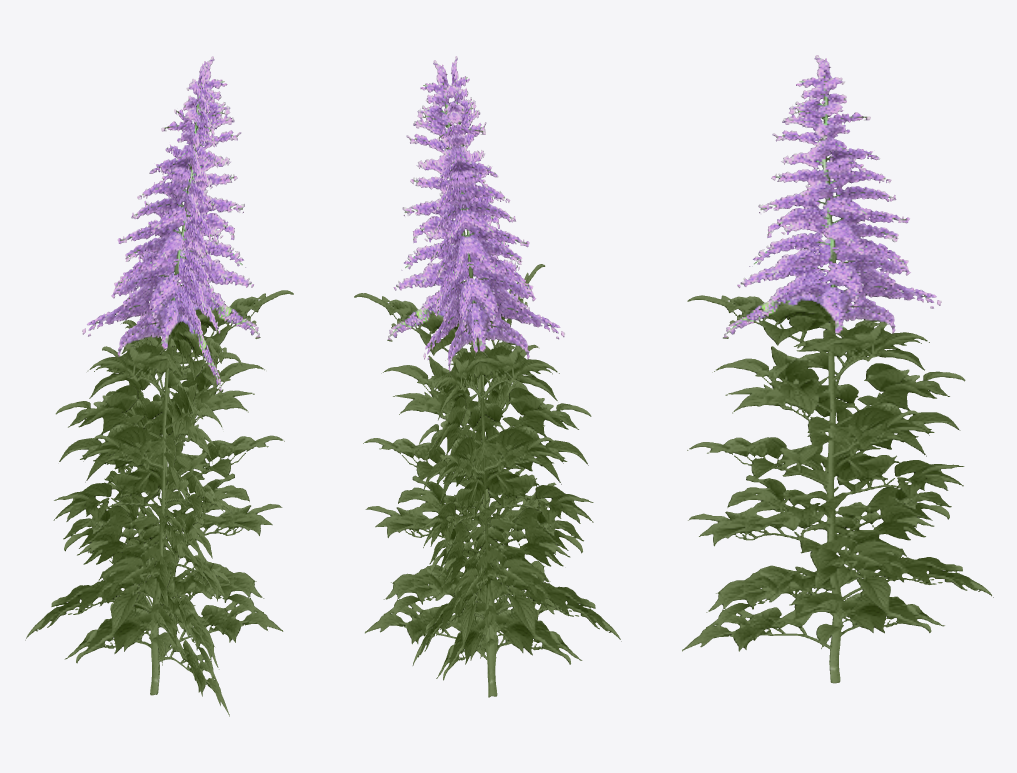
Rendered from SM_FOL_Flower_Tall_02_A.fbx.
3 renders of one model, left to right at view 1: azimuth 30°, elevation 25°; view 2: azimuth 150°, elevation 25°; view 3: azimuth 270°, elevation 25°, orthographic. The views are drawn at different scales.
Visible parts, largest first — view 1: SM_FOL_Flower_Tall_02_A; view 2: SM_FOL_Flower_Tall_02_A; view 3: SM_FOL_Flower_Tall_02_A.
Part boxes in pixels (x1,y1,x2,y2): SM_FOL_Flower_Tall_02_A: (25, 56, 293, 716); SM_FOL_Flower_Tall_02_A: (354, 56, 621, 697); SM_FOL_Flower_Tall_02_A: (682, 55, 993, 683).
Size of the model in its own units: 34.89 by 75.89 by 33.71.
Materials: 1 (1 with a texture image).
